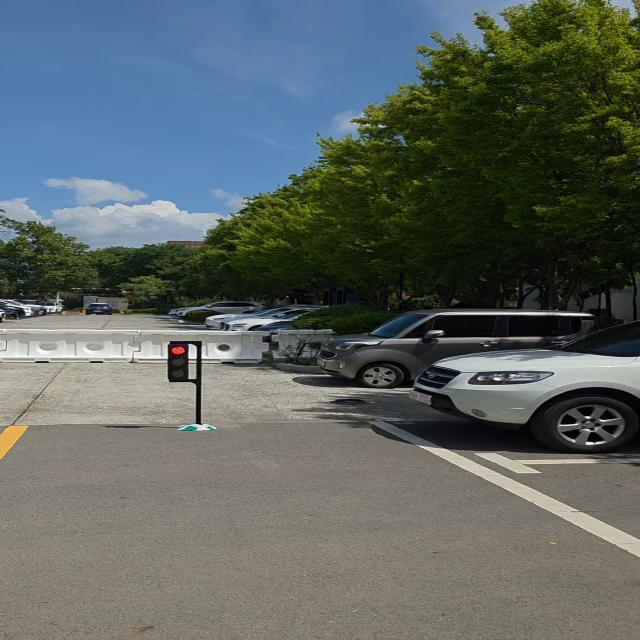red: (163, 342, 196, 383)
